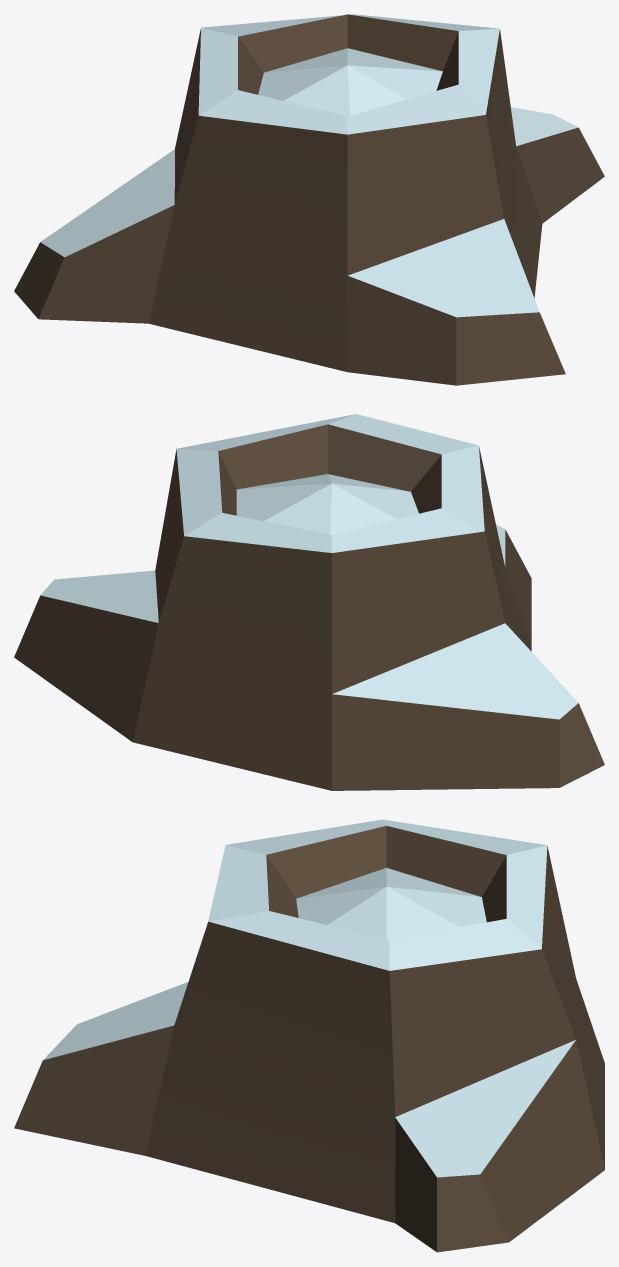
Rendered from SM_Env_Generic_Treestump_01_Snow.fbx.
3 renders of one model, top to bottom at view 1: azimuth 30°, elevation 25°; view 2: azimuth 150°, elevation 25°; view 3: azimuth 270°, elevation 25°, orthographic. The views are drawn at different scales.
Parts seen in each view (by area): view 1: SM_Env_Generic_Treestump_01_Snow; view 2: SM_Env_Generic_Treestump_01_Snow; view 3: SM_Env_Generic_Treestump_01_Snow.
Boxes of the visible parts, x1=… form: SM_Env_Generic_Treestump_01_Snow: x1=14, y1=14, x2=604, y2=385; SM_Env_Generic_Treestump_01_Snow: x1=14, y1=414, x2=604, y2=790; SM_Env_Generic_Treestump_01_Snow: x1=14, y1=819, x2=604, y2=1252.
Size of the model in its own units: 24.94 by 9 by 20.36.
Materials: 1 (1 with a texture image).
